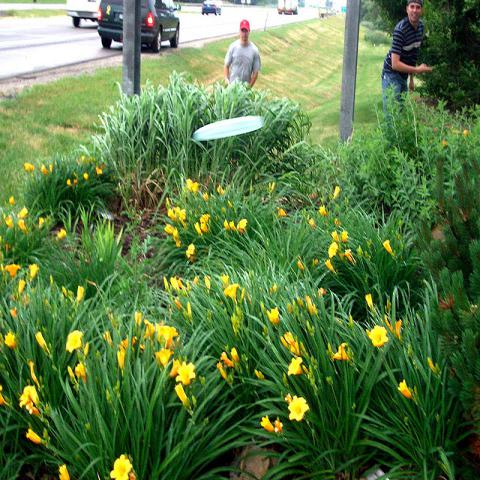car: (96, 0, 184, 53), (64, 2, 101, 29), (201, 1, 221, 16)
truck: (278, 0, 298, 15)
